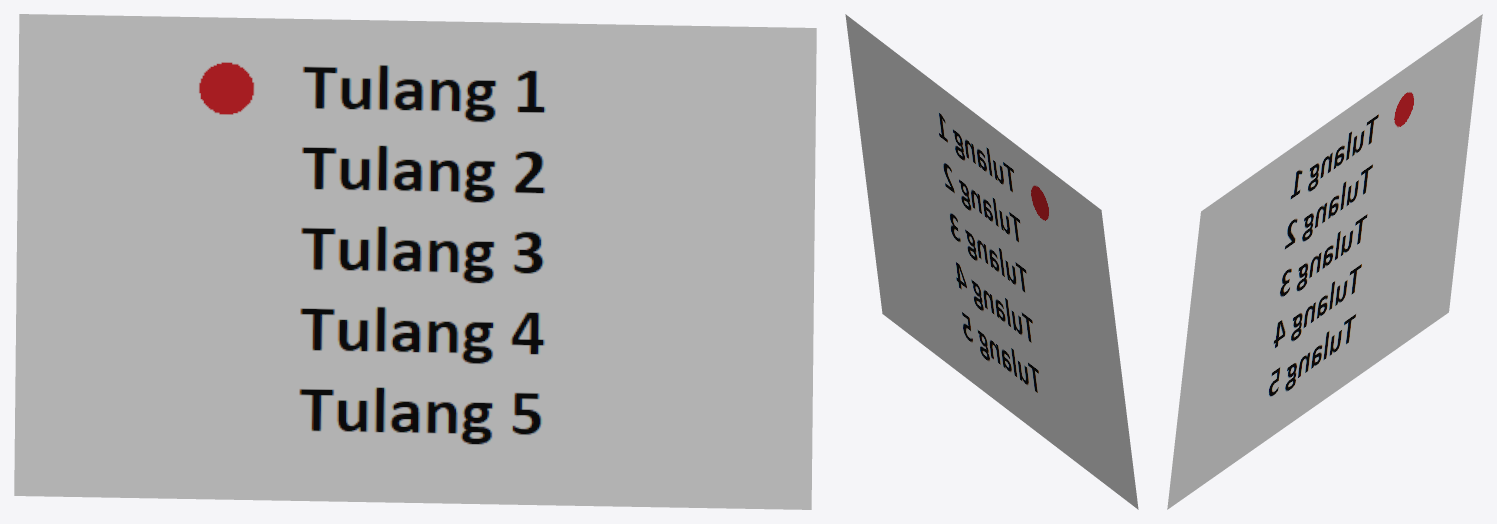
File: flat.glb
3 views of the same model, side by side, from view 1: azimuth 30°, elevation 25°; view 2: azimuth 150°, elevation 25°; view 3: azimuth 270°, elevation 25° (orthographic). The views are drawn at different scales.
Visible parts, largest first — view 1: andma; view 2: andma; view 3: andma.
Part boxes in pixels (<box>): andma: <box>14,14,816,509</box>; andma: <box>845,14,1138,509</box>; andma: <box>1167,14,1482,509</box>.
Size of the model in its own units: 1.41 by 1 by 0.9206.
Materials: 1 (1 with a texture image).
